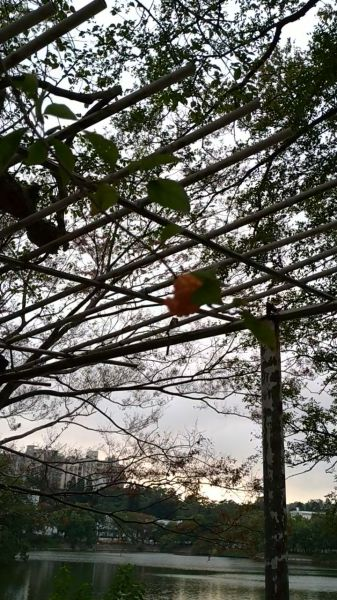eggs: (161, 264, 214, 321)
